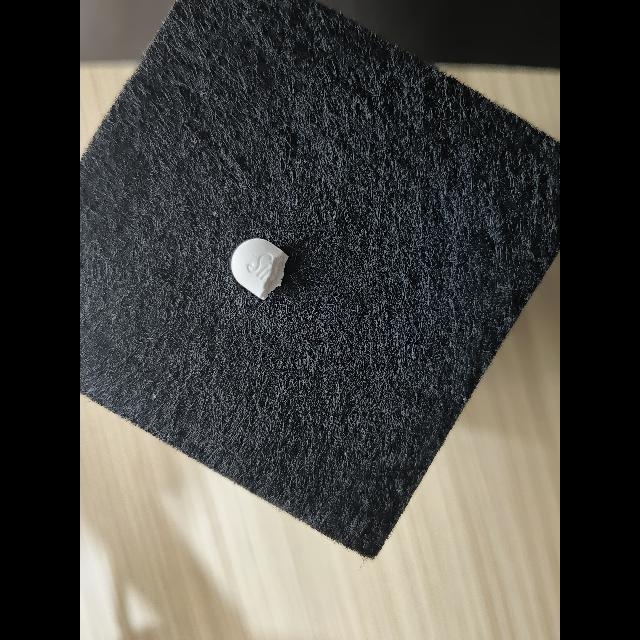Chipped Pill: (231, 238, 289, 300)
